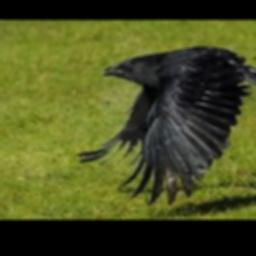Crow: (75, 45, 256, 205)
